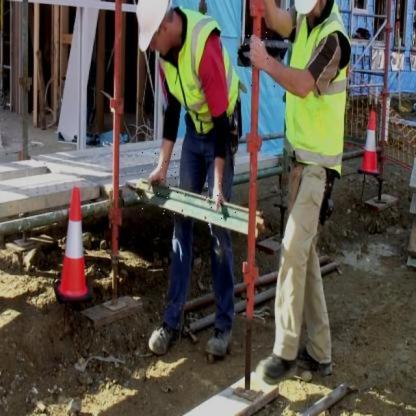bota: (258, 345, 296, 384), (147, 320, 179, 355), (299, 344, 333, 375), (206, 322, 232, 357)
capacete: (135, 1, 175, 53)
